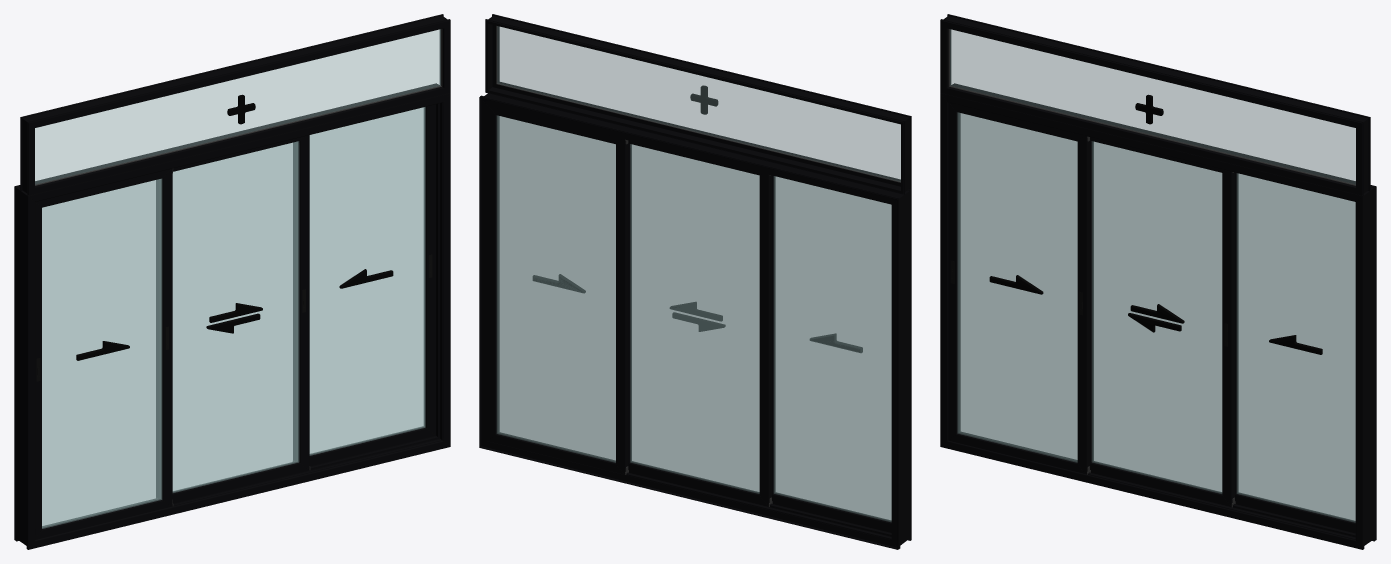
File: SLIDING-ROYAL-3-TRACK-3-PANELS-W-FIXED-TOP-WITHOUT-TSEC.glb
The picture shows the model from 3 angles, left to right: view 1: azimuth 30°, elevation 25°; view 2: azimuth 150°, elevation 25°; view 3: azimuth 330°, elevation 25°; orthographic projection.
Parts seen in each view (by area): view 1: GEO-PNL-1-2-SSH-GLZ-IN, GEO-PNL-1-2-SSH-GLZ-OUT, GEO-PNL-1-1-SSH-GLZ-IN, GEO-PNL-1-1-SSH-GLZ-OUT, GEO-PNL-1-3-SSH-GLZ-IN, GEO-PNL-1-3-SSH-GLZ-OUT, GEO-GRD-0-1-FRM-GLZ-IN, GEO-GRD-0-0-FRM-SIDE-L, GEO-GRD-0-1-FRM-RAIL-T, GEO-GRD-0-0-FRM-SIDE-R, GEO-GRD-0-0-FRM-RAIL-B, GEO-GRD-0-1-FRM-RAIL-B (+14 smaller); view 2: GEO-PNL-1-2-SSH-GLZ-OUT, GEO-PNL-1-2-SSH-GLZ-IN, GEO-PNL-1-3-SSH-GLZ-OUT, GEO-PNL-1-1-SSH-GLZ-OUT, GEO-PNL-1-3-SSH-GLZ-IN, GEO-PNL-1-1-SSH-GLZ-IN, GEO-GRD-0-1-FRM-GLZ-IN, GEO-GRD-0-0-FRM-SIDE-L, GEO-GRD-0-1-FRM-RAIL-B, GEO-GRD-0-0-FRM-RAIL-T, GEO-GRD-0-0-FRM-RAIL-B, GEO-GRD-0-1-FRM-RAIL-T (+14 smaller); view 3: GEO-PNL-1-2-SSH-GLZ-IN, GEO-PNL-1-2-SSH-GLZ-OUT, GEO-PNL-1-1-SSH-GLZ-IN, GEO-PNL-1-1-SSH-GLZ-OUT, GEO-PNL-1-3-SSH-GLZ-IN, GEO-PNL-1-3-SSH-GLZ-OUT, GEO-GRD-0-1-FRM-GLZ-IN, GEO-GRD-0-0-FRM-SIDE-R, GEO-GRD-0-1-FRM-RAIL-T, GEO-GRD-0-0-FRM-RAIL-B, GEO-GRD-0-1-FRM-RAIL-B, GEO-GRD-0-0-FRM-RAIL-T (+15 smaller).
Boxes of the visible parts, x1,y1,x2,y2 form: GEO-PNL-1-2-SSH-GLZ-IN: (173, 141, 298, 492); GEO-PNL-1-2-SSH-GLZ-OUT: (173, 142, 297, 491); GEO-PNL-1-1-SSH-GLZ-IN: (42, 179, 161, 528); GEO-PNL-1-1-SSH-GLZ-OUT: (42, 179, 160, 527); GEO-PNL-1-3-SSH-GLZ-IN: (310, 107, 425, 455); GEO-PNL-1-3-SSH-GLZ-OUT: (310, 107, 424, 454); GEO-GRD-0-1-FRM-GLZ-IN: (35, 29, 440, 184); GEO-GRD-0-0-FRM-SIDE-L: (14, 201, 35, 535); GEO-GRD-0-1-FRM-RAIL-T: (35, 17, 436, 126); GEO-GRD-0-0-FRM-SIDE-R: (436, 105, 450, 433); GEO-GRD-0-0-FRM-RAIL-B: (42, 437, 436, 546); GEO-GRD-0-1-FRM-RAIL-B: (35, 87, 436, 192); GEO-PNL-1-2-SSH-GLZ-OUT: (630, 144, 759, 493); GEO-PNL-1-2-SSH-GLZ-IN: (631, 144, 759, 492); GEO-PNL-1-3-SSH-GLZ-OUT: (497, 115, 615, 462); GEO-PNL-1-1-SSH-GLZ-OUT: (774, 176, 891, 521); GEO-PNL-1-3-SSH-GLZ-IN: (498, 116, 615, 461); GEO-PNL-1-1-SSH-GLZ-IN: (775, 176, 891, 520); GEO-GRD-0-1-FRM-GLZ-IN: (497, 26, 900, 181); GEO-GRD-0-0-FRM-SIDE-L: (891, 204, 911, 535); GEO-GRD-0-1-FRM-RAIL-B: (499, 83, 897, 191); GEO-GRD-0-0-FRM-RAIL-T: (493, 96, 891, 202); GEO-GRD-0-0-FRM-RAIL-B: (493, 434, 891, 546); GEO-GRD-0-1-FRM-RAIL-T: (499, 17, 897, 121); GEO-PNL-1-2-SSH-GLZ-IN: (1092, 141, 1221, 493); GEO-PNL-1-2-SSH-GLZ-OUT: (1093, 142, 1221, 492); GEO-PNL-1-1-SSH-GLZ-IN: (957, 112, 1077, 462); GEO-PNL-1-1-SSH-GLZ-OUT: (958, 113, 1077, 461); GEO-PNL-1-3-SSH-GLZ-IN: (1237, 173, 1355, 522); GEO-PNL-1-3-SSH-GLZ-OUT: (1238, 174, 1355, 520); GEO-GRD-0-1-FRM-GLZ-IN: (950, 29, 1355, 184); GEO-GRD-0-0-FRM-SIDE-R: (1355, 201, 1376, 535); GEO-GRD-0-1-FRM-RAIL-T: (954, 17, 1355, 126); GEO-GRD-0-0-FRM-RAIL-B: (954, 433, 1355, 546); GEO-GRD-0-1-FRM-RAIL-B: (954, 87, 1355, 192); GEO-GRD-0-0-FRM-RAIL-T: (954, 86, 1355, 200).
Bounding box in the file's own units: 3 × 2.9 × 0.2074.
